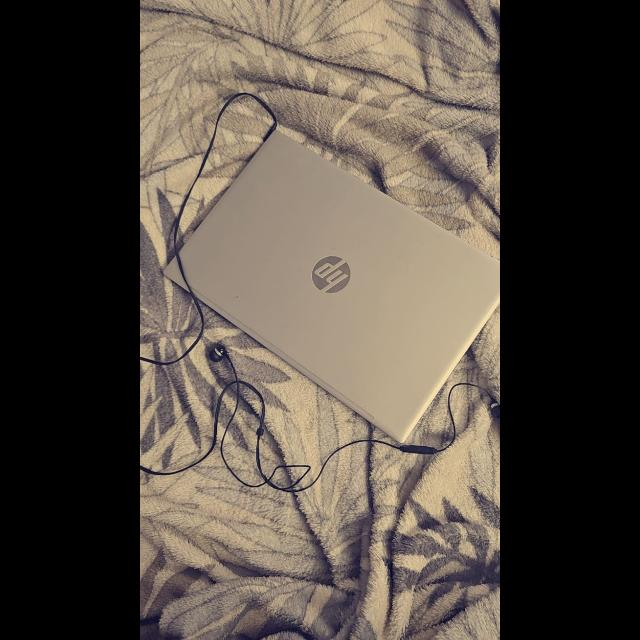laptop: (180, 131, 500, 442)
